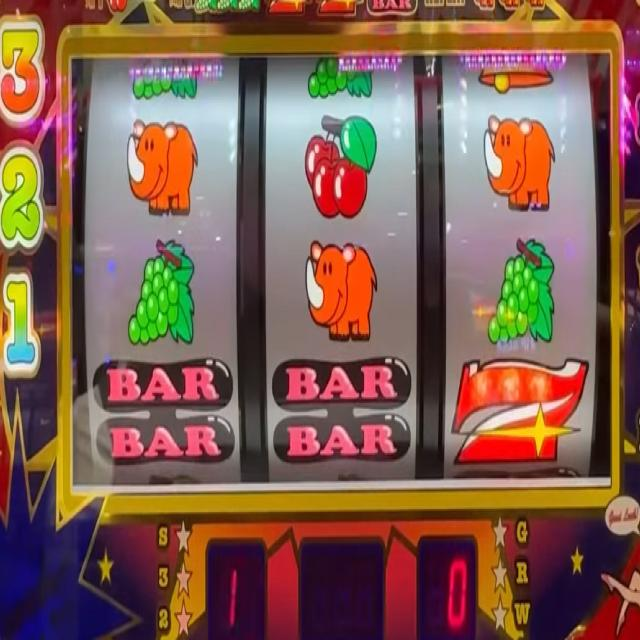bar: (270, 352, 412, 466), (90, 358, 237, 468), (366, 0, 420, 19)
bell: (478, 56, 554, 96)
cherry: (304, 110, 378, 224), (106, 0, 128, 14)
display: (70, 51, 613, 484)
elephant: (304, 236, 378, 344), (482, 110, 556, 215), (125, 115, 199, 218), (474, 0, 496, 14), (500, 1, 522, 10), (525, 0, 547, 9)
grape: (487, 234, 555, 350), (128, 233, 196, 349), (308, 55, 374, 102), (131, 61, 199, 102), (192, 0, 215, 16), (218, 0, 238, 15), (238, 0, 259, 13)
z: (449, 356, 592, 468), (315, 0, 364, 18), (262, 0, 312, 15)
